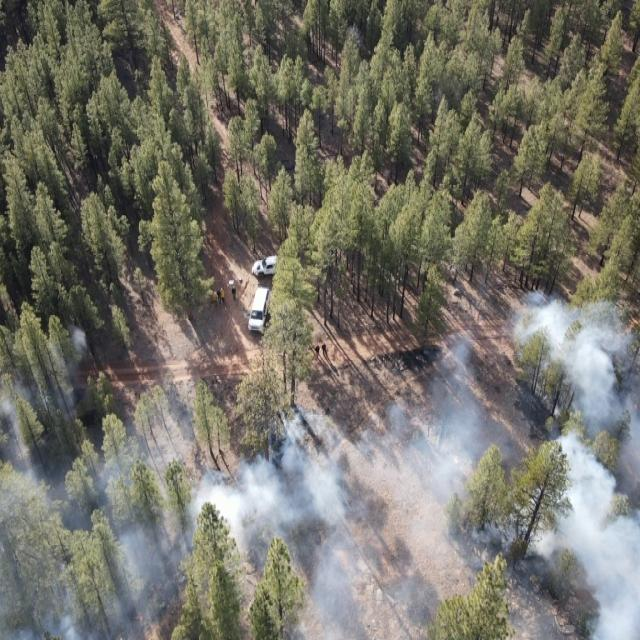fire: (130, 607, 146, 627), (632, 398, 638, 414)
smoke: (109, 389, 428, 640), (428, 292, 640, 640), (0, 314, 109, 640)
